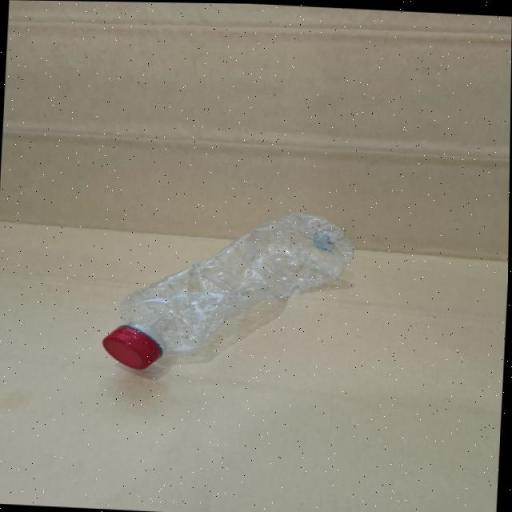plastic: (94, 188, 368, 380)
